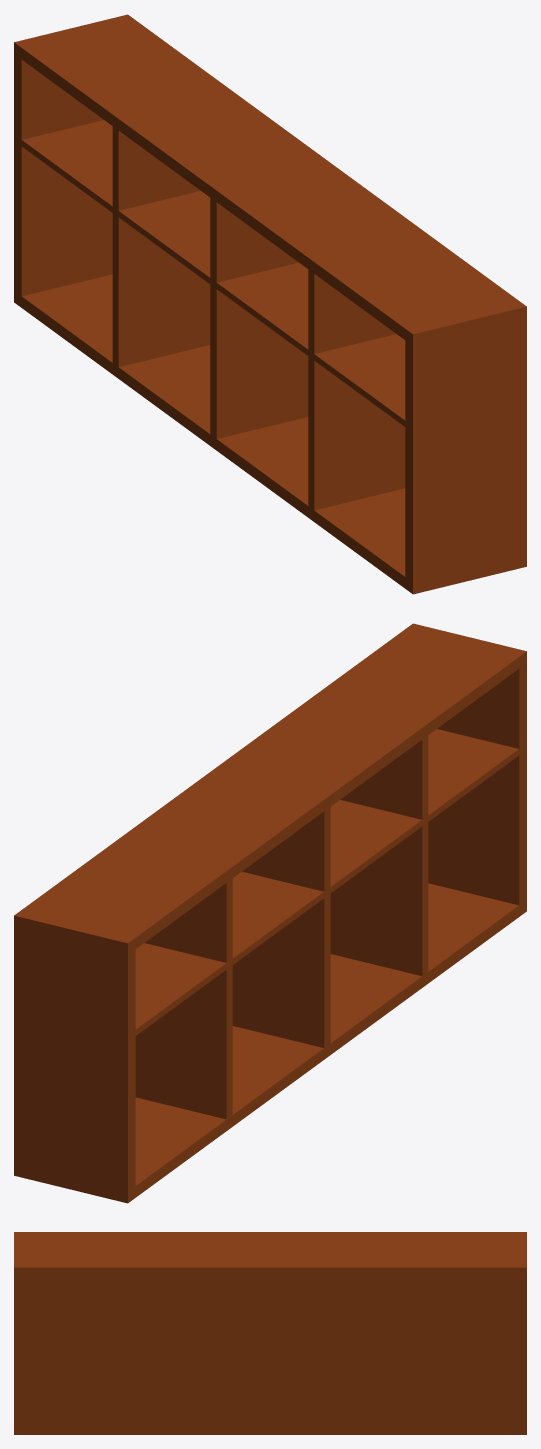
The model's file is półka.fbx.
3 views of the same model, one above another, from view 1: azimuth 30°, elevation 25°; view 2: azimuth 150°, elevation 25°; view 3: azimuth 270°, elevation 25° (orthographic). The views are drawn at different scales.
Visible parts, largest first — view 1: Pułka; view 2: Pułka; view 3: Pułka.
Part boxes in pixels (left/top/right/bottom): Pułka: left=14, top=14, right=526, bottom=594; Pułka: left=14, top=623, right=526, bottom=1203; Pułka: left=14, top=1232, right=526, bottom=1434.
Bounding box in the file's own units: 28.5 × 62.19 × 173.
